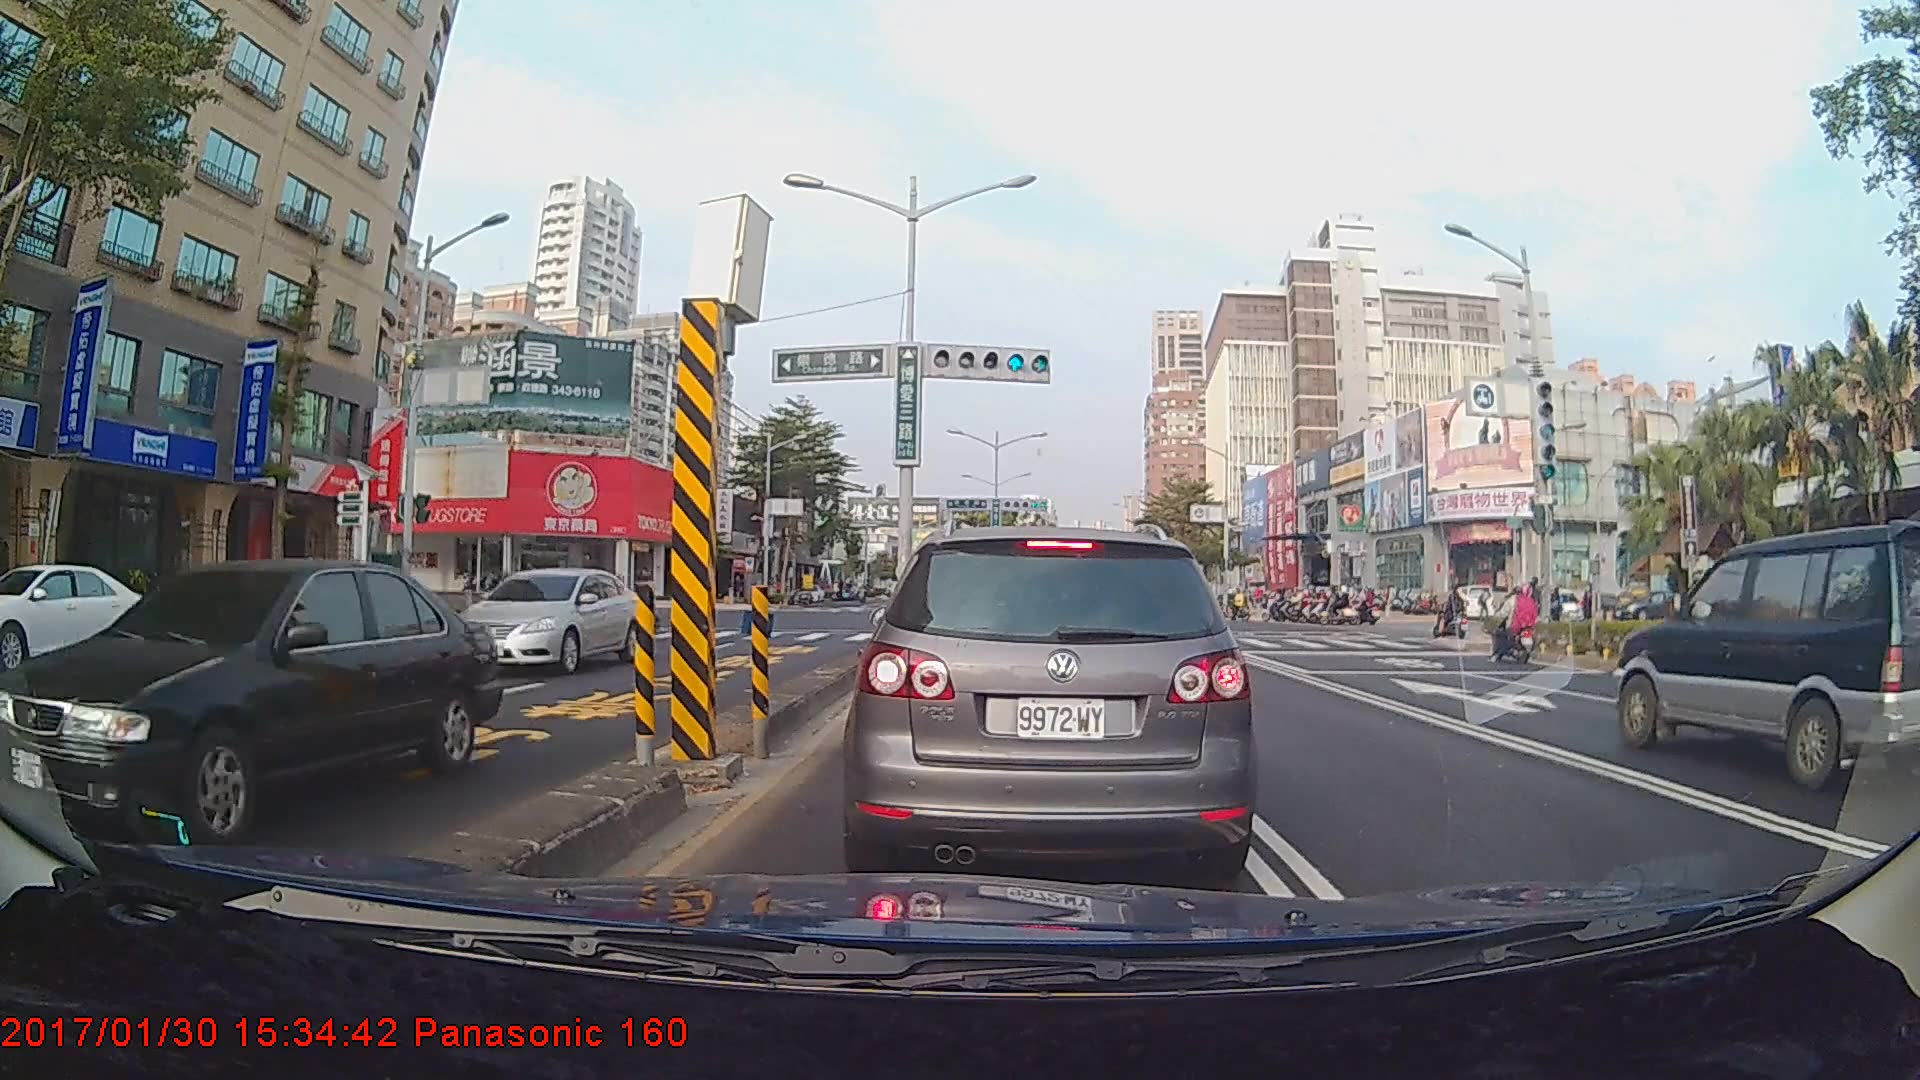rider: (1485, 582, 1548, 668), (1436, 582, 1473, 646)
vehicle: (0, 555, 502, 853), (854, 522, 1247, 877), (1613, 518, 1919, 791), (453, 567, 646, 676), (0, 561, 157, 671)
